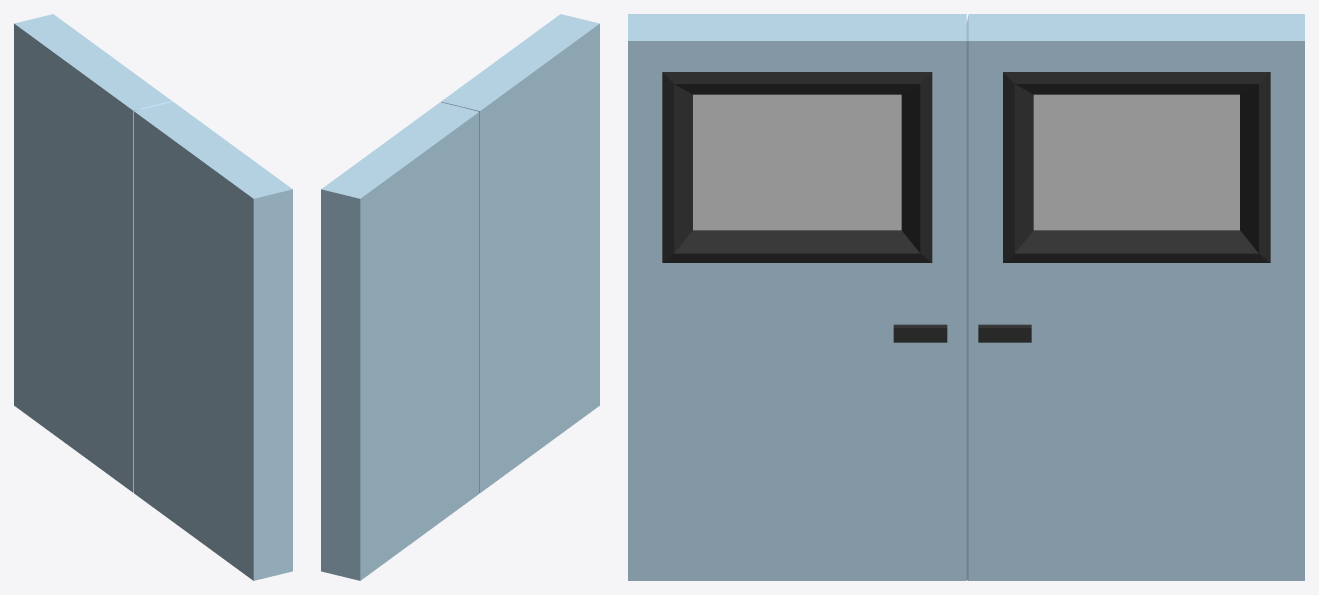
File: DoubleDoors.fbx
The picture shows the model from 3 angles, left to right: view 1: azimuth 30°, elevation 25°; view 2: azimuth 150°, elevation 25°; view 3: azimuth 270°, elevation 25°; orthographic projection. The views are drawn at different scales.
Visible parts, largest first — view 1: DoorDoubleL, DoorDoubleR; view 2: DoorDoubleR, DoorDoubleL; view 3: DoorDoubleL, DoorDoubleR.
Part boxes in pixels (x1,y1,x2,y2): DoorDoubleL: (134,101,292,580); DoorDoubleR: (14,14,172,492); DoorDoubleR: (321,102,479,580); DoorDoubleL: (441,14,599,493); DoorDoubleL: (628,14,966,580); DoorDoubleR: (966,14,1304,580).
Size of the model in its own units: 31.18 by 257 by 292.
